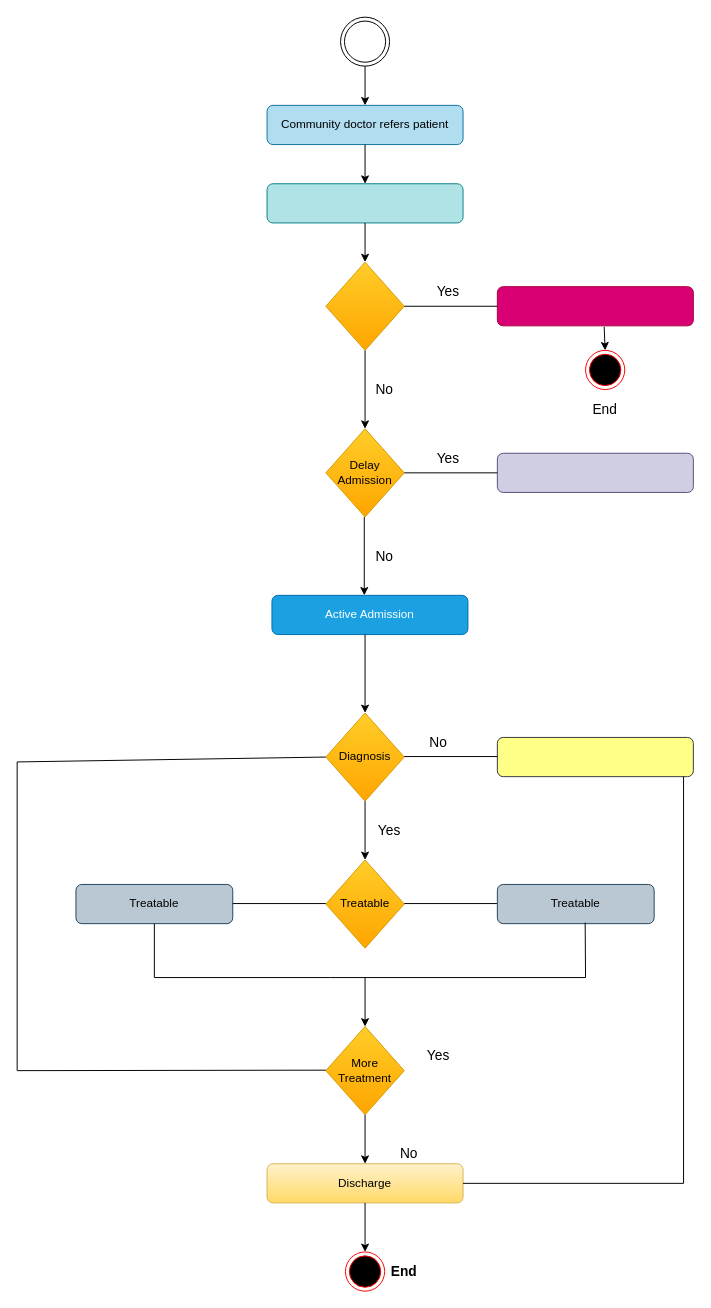
Image size: 711x1308. Some labels were removed from this diagram. The shapes that lost their labels are listed below. From the top down, each one's centre as x and y in pixels, then its label:
point 365,41: Start
point 364,203: Record planned Admission
point 364,305: Patient Recover?
point 594,306: Admission Cancel
point 594,472: Deferred Admission
point 594,756: Discharged
